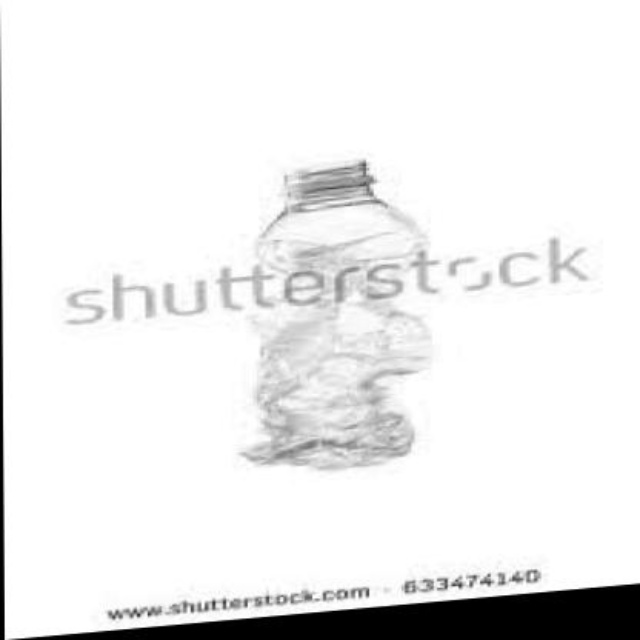trash: (243, 160, 431, 468)
